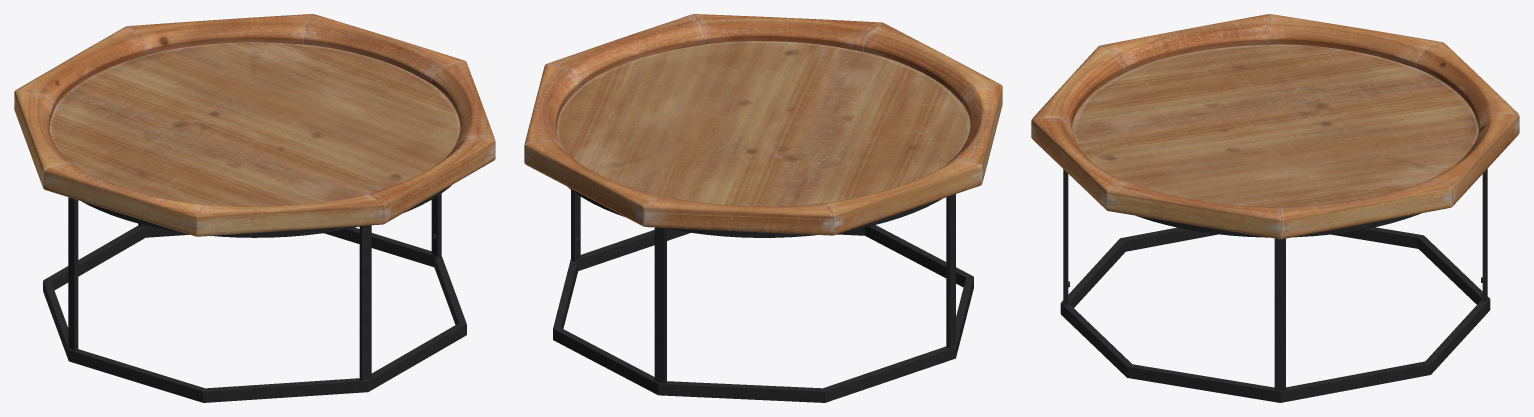
File: table_B07B7DFM2G.glb
3 views of the same model, side by side, from view 1: azimuth 30°, elevation 25°; view 2: azimuth 150°, elevation 25°; view 3: azimuth 270°, elevation 25° (orthographic). The views are drawn at different scales.
Parts seen in each view (by area): view 1: RootNode; view 2: RootNode; view 3: RootNode.
Boxes of the visible parts, <box> form: RootNode: <box>14,14,495,402</box>; RootNode: <box>524,14,1002,402</box>; RootNode: <box>1031,14,1519,402</box>.
Bounding box in the file's own units: 1 × 0.4437 × 1.
Materials: 1 (1 with a texture image).
